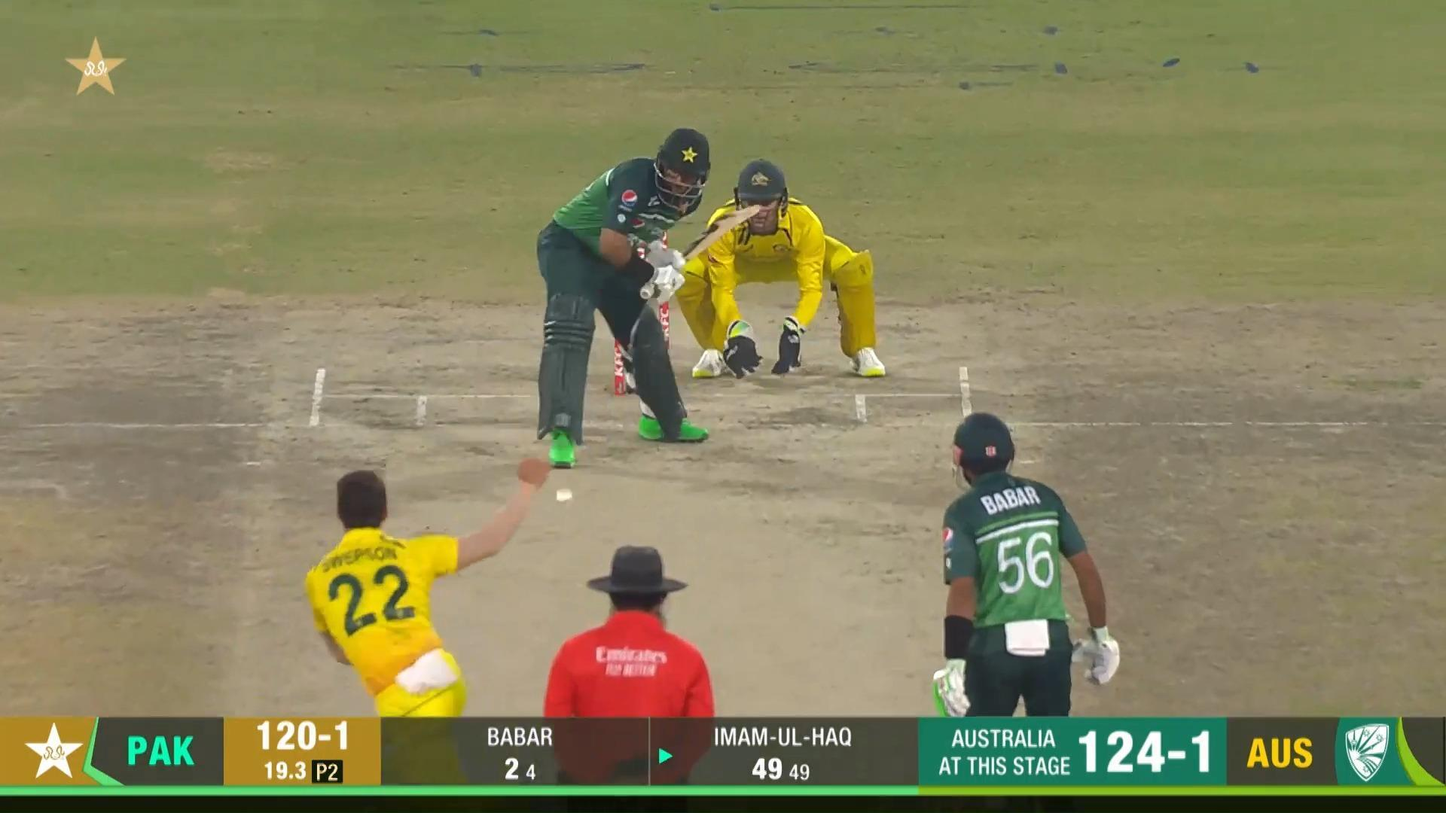BM 1: (534, 124, 764, 469)
BO: (300, 453, 554, 813)
